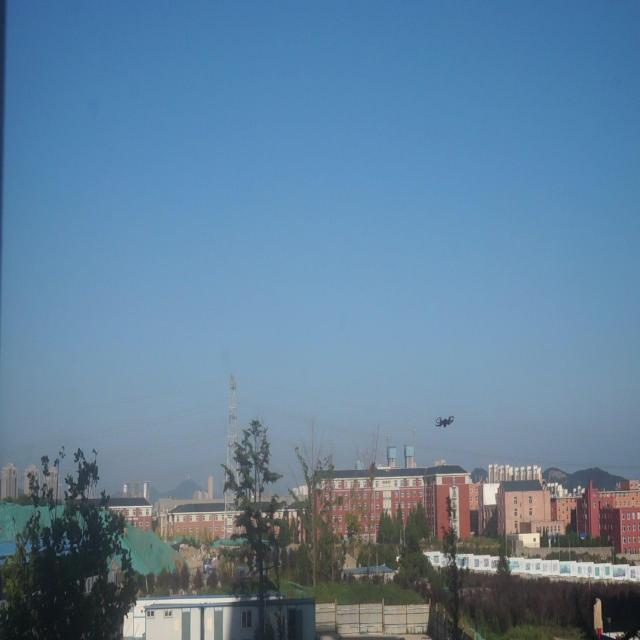UAV: (435, 416, 455, 427)
